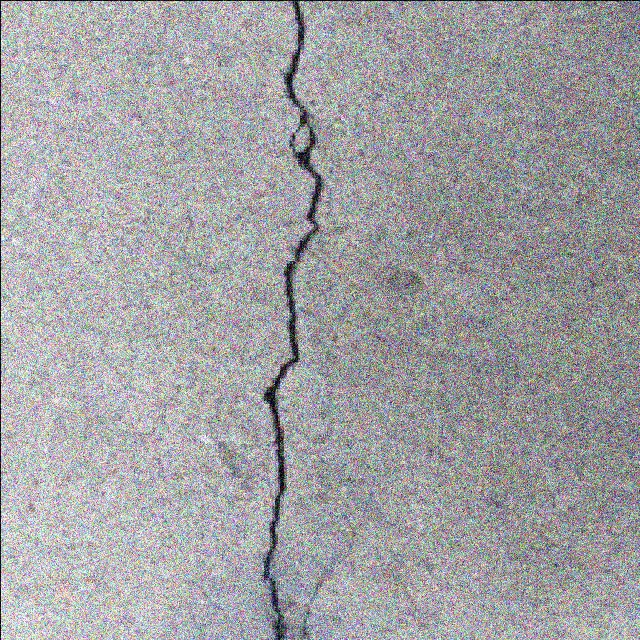SurfaceCrack: (230, 0, 362, 640)
